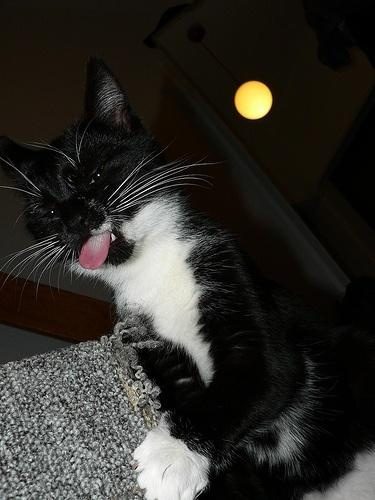cat: (2, 59, 375, 500)
